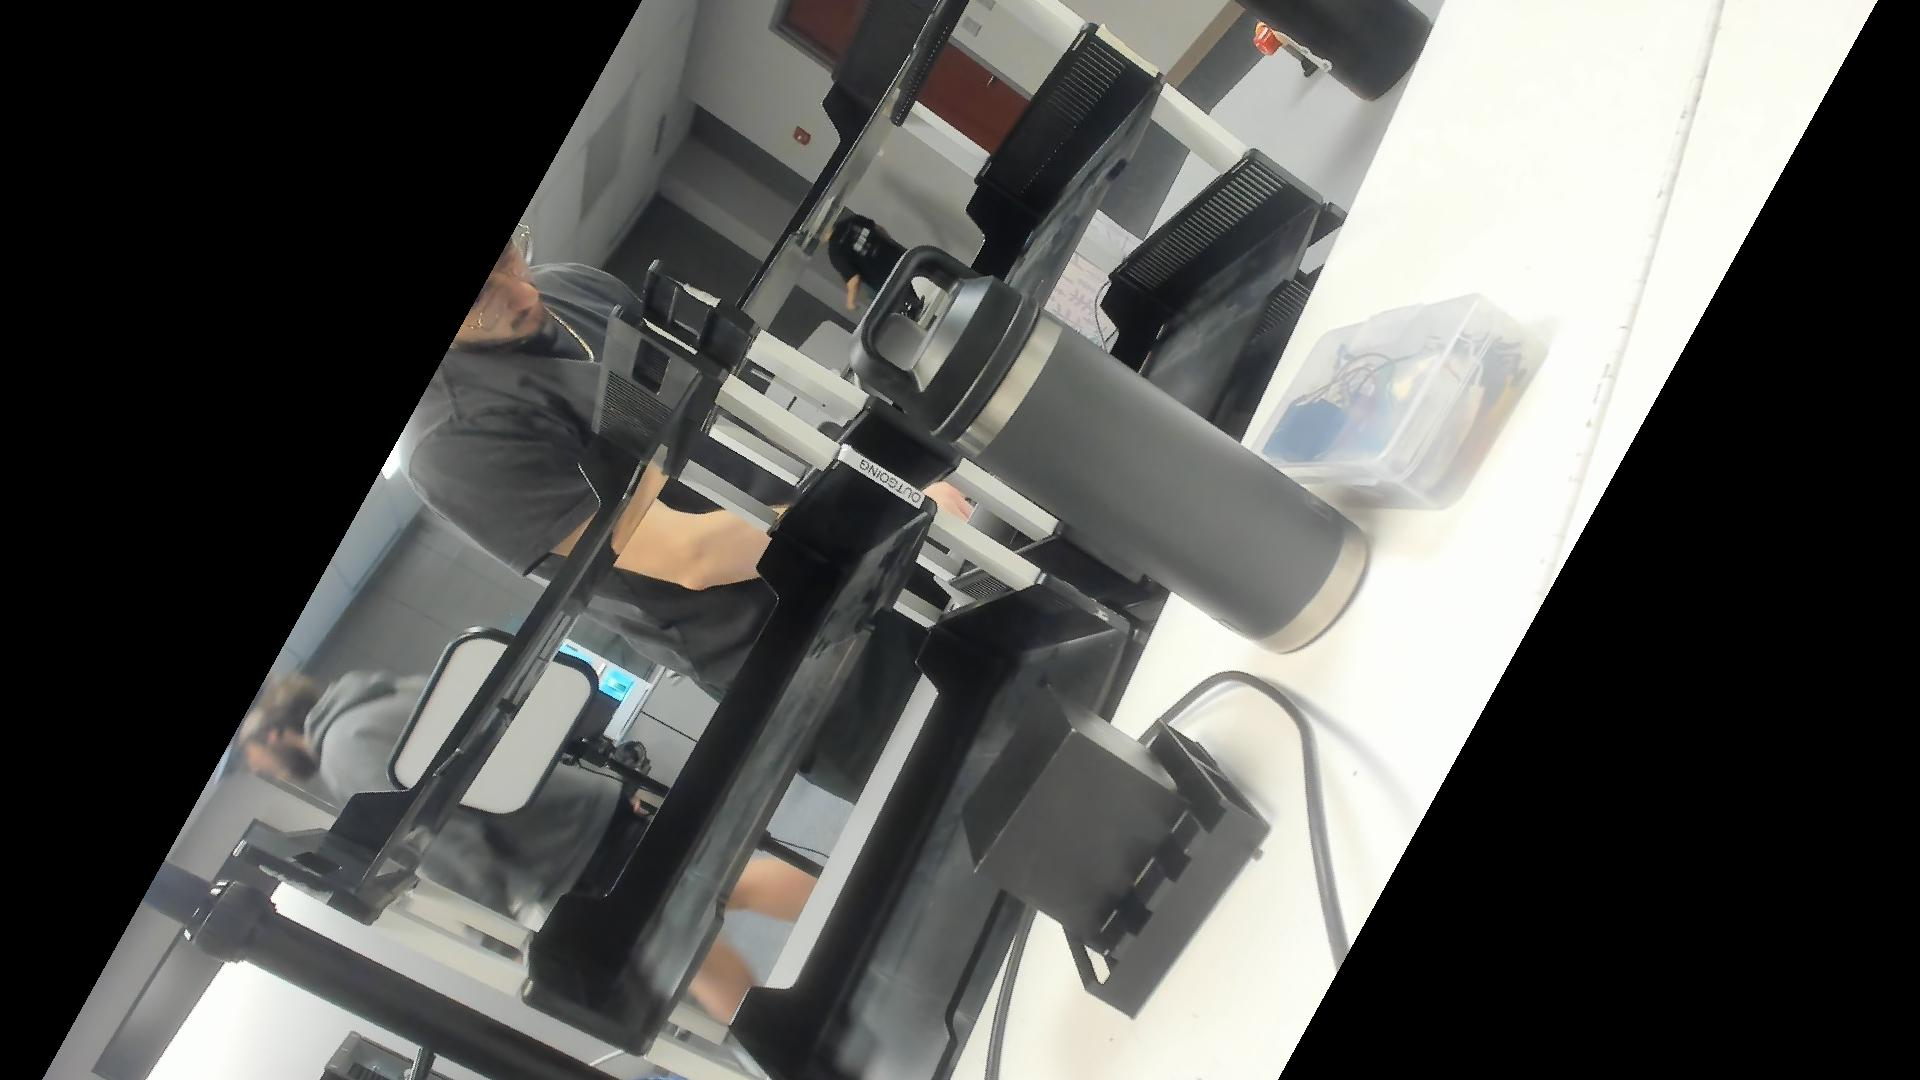black pallet: (955, 674, 1273, 1031)
